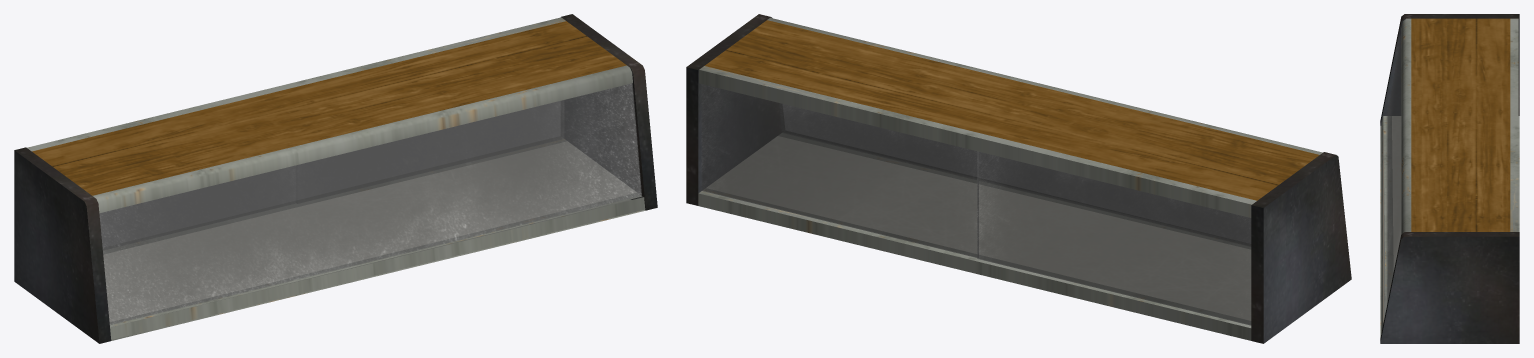
File: cabin07a.fbx
3 views of the same model, side by side, from view 1: azimuth 30°, elevation 25°; view 2: azimuth 150°, elevation 25°; view 3: azimuth 270°, elevation 25° (orthographic). The views are drawn at different scales.
Visible parts, largest first — view 1: cabin07a, cabin07a_cv2, cabin07_cv1; view 2: cabin07a, cabin07a_cv2, cabin07_cv1; view 3: cabin07a.
Boxes of the visible parts, x1,y1,x2,y2 form: cabin07a: (14, 14, 657, 343); cabin07a_cv2: (297, 100, 563, 203); cabin07_cv1: (100, 166, 295, 249); cabin07a: (686, 14, 1351, 343); cabin07a_cv2: (701, 84, 978, 257); cabin07_cv1: (977, 151, 1251, 325); cabin07a: (1380, 14, 1519, 343).
Bounding box in the file's own units: 125 × 28.16 × 33.15.
